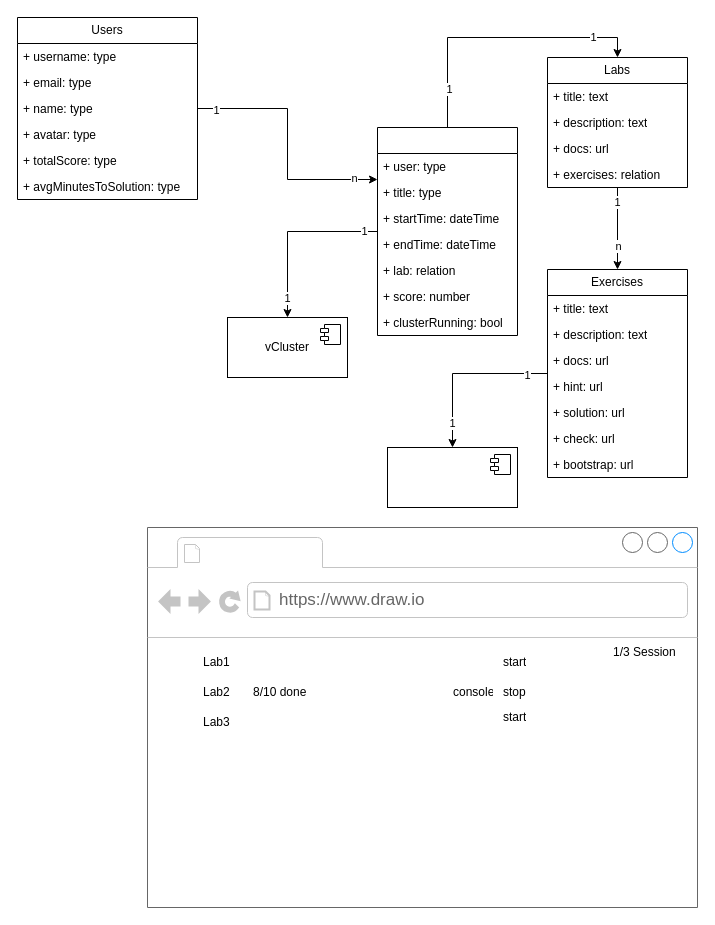
This 715x925 diagram has some shape labels left out. Here are the shapes that lost their labels. From the top down, the box of each, then its label:
(376, 126, 518, 336): Sessions
(386, 446, 518, 508): Kubelab Agent
(206, 538, 318, 566): Page 1
